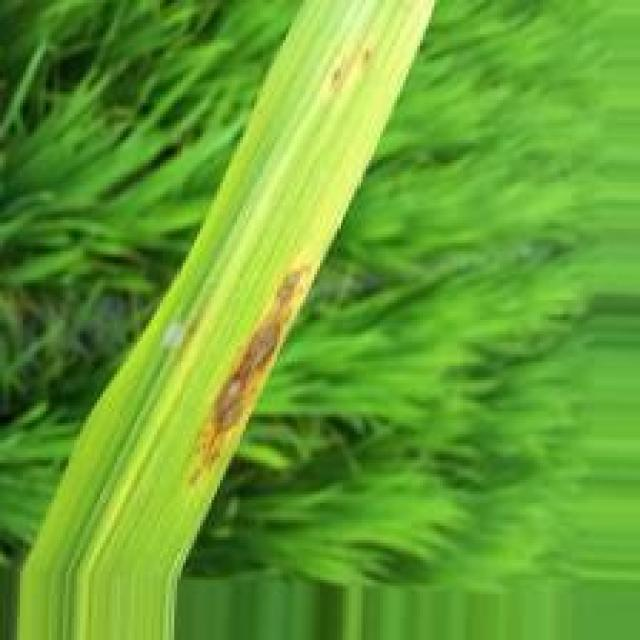Leaf_Blast: (186, 217, 340, 496)
